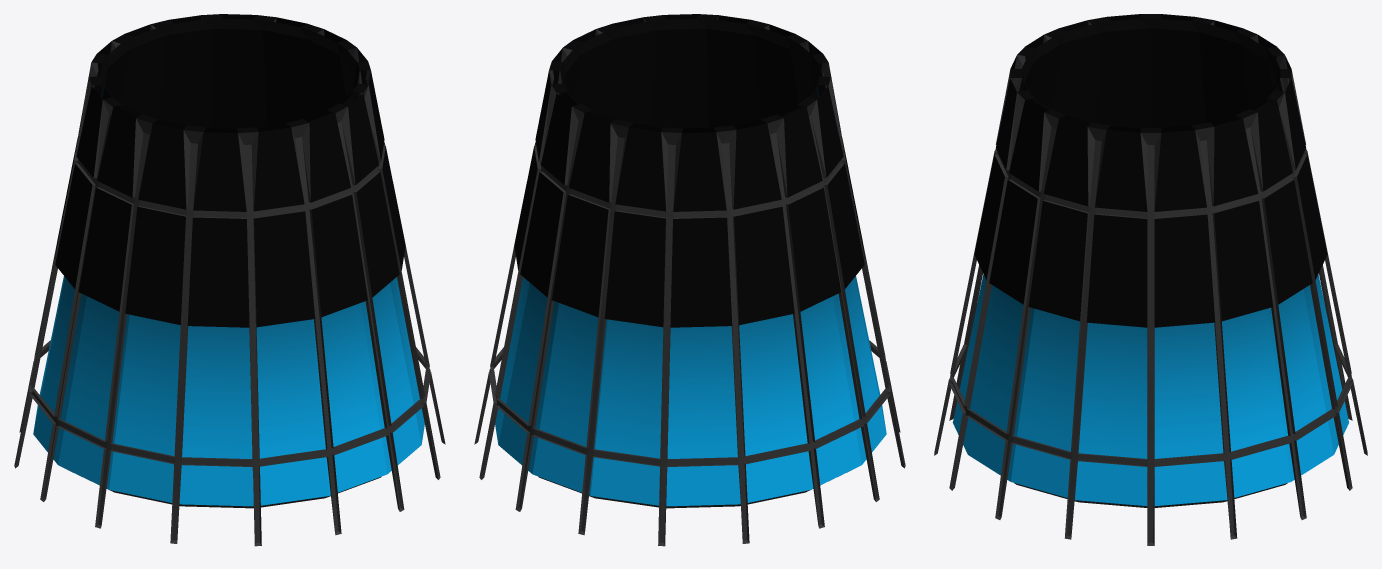
Rendered from PenSheQi_WeiPen_3X3_on1.FBX.
The picture shows the model from 3 angles, left to right: view 1: azimuth 30°, elevation 25°; view 2: azimuth 150°, elevation 25°; view 3: azimuth 270°, elevation 25°; orthographic projection.
Visible parts, largest first — view 1: Box001; view 2: Box001; view 3: Box001.
Part boxes in pixels (box(x1,y1,x2,y2)): Box001: box(14, 14, 445, 546); Box001: box(474, 14, 905, 546); Box001: box(934, 14, 1367, 545).
Size of the model in its own units: 2.99 by 3 by 2.99.
